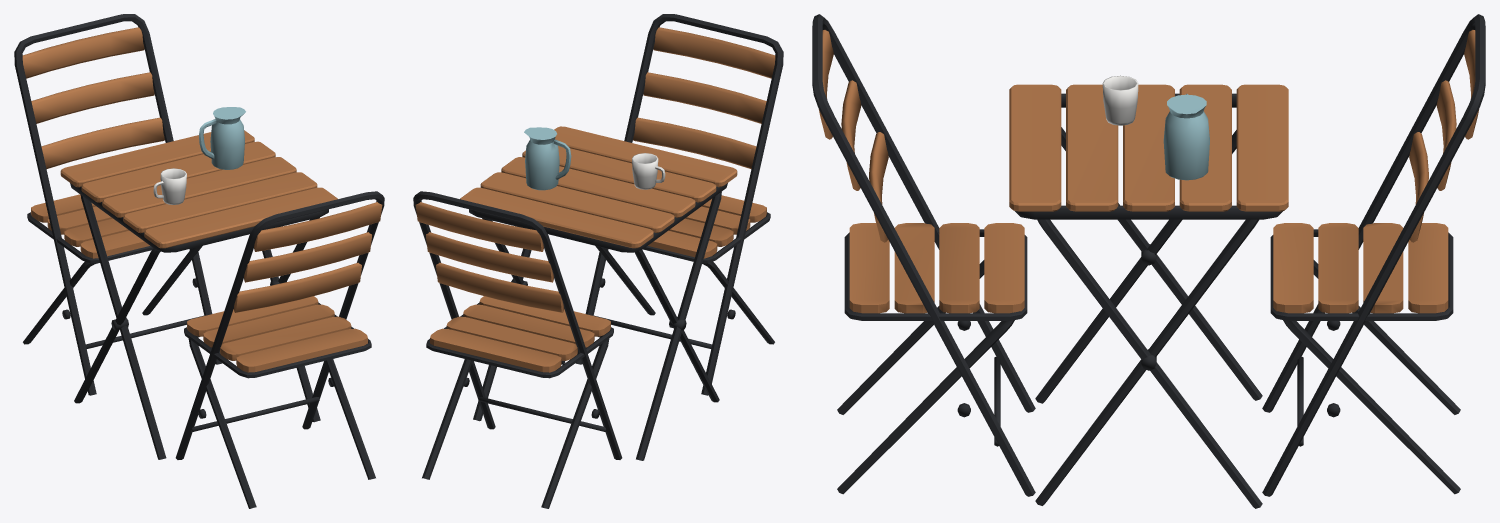
The model's file is patioSet.glb.
3 renders of one model, left to right at view 1: azimuth 30°, elevation 25°; view 2: azimuth 150°, elevation 25°; view 3: azimuth 270°, elevation 25°, orthographic. The views are drawn at different scales.
Parts seen in each view (by area): view 1: patioSet; view 2: patioSet; view 3: patioSet.
Part boxes in pixels (x1,y1,x2,y2): patioSet: (14,14,384,508); patioSet: (413,14,783,508); patioSet: (812,14,1485,508).
Bounding box in the file's own units: 0.6 × 0.942 × 1.42.
